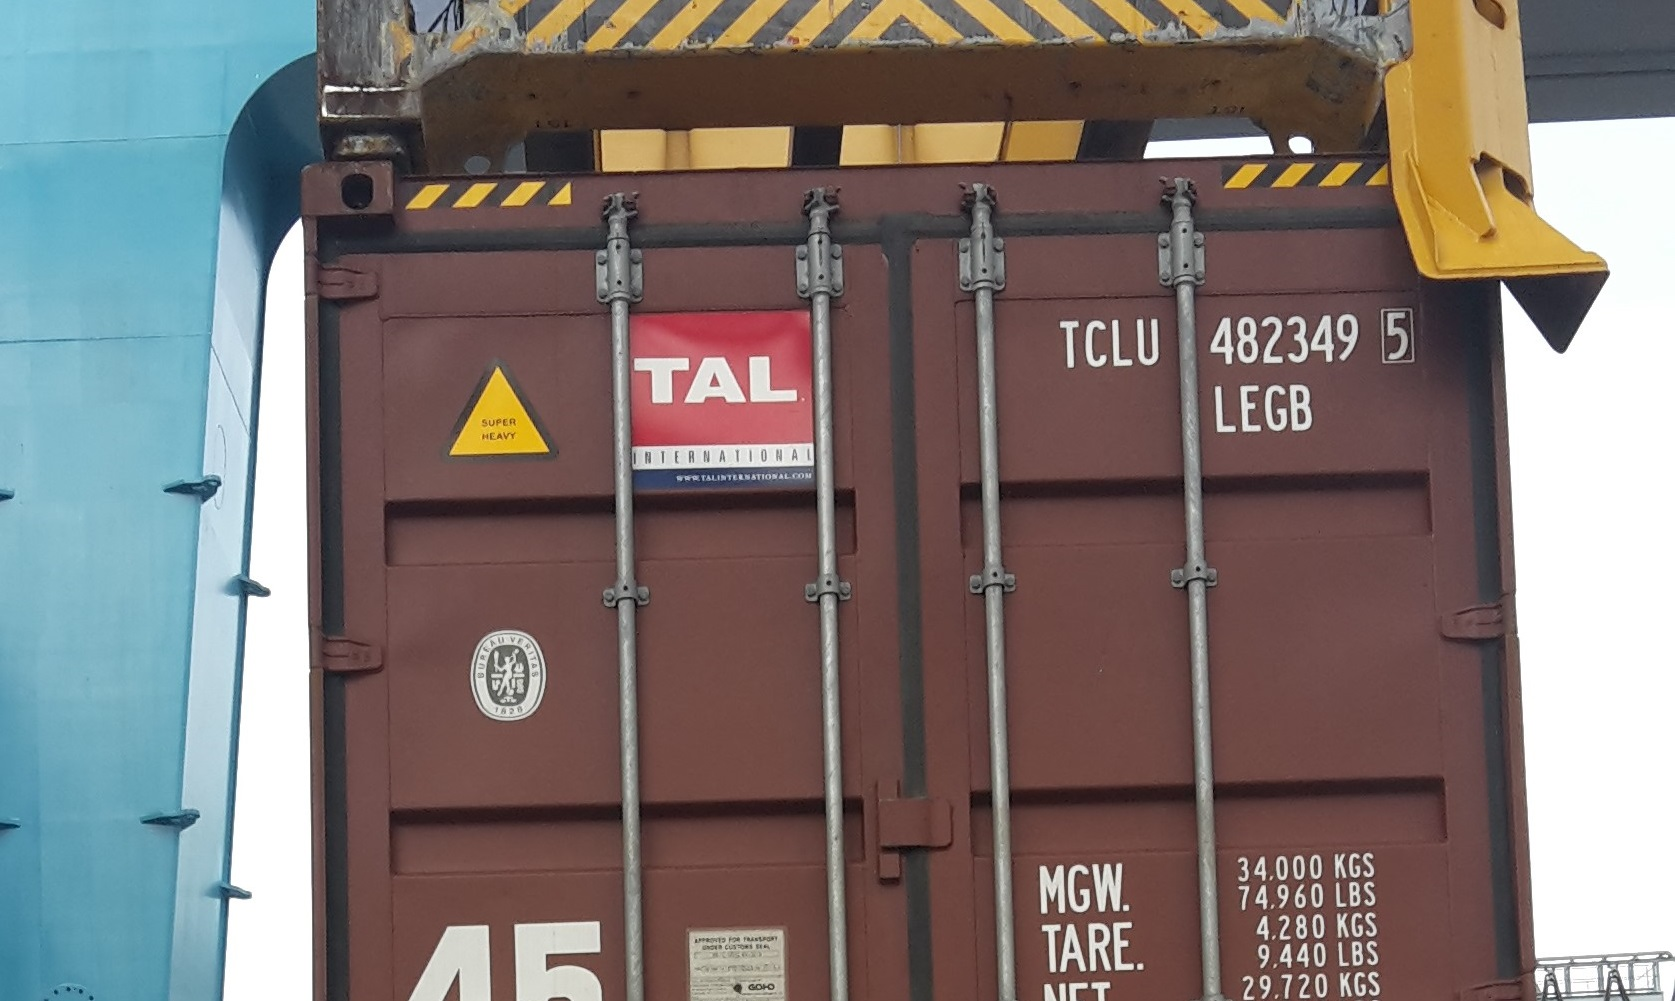container_door: (300, 153, 1558, 1001)
